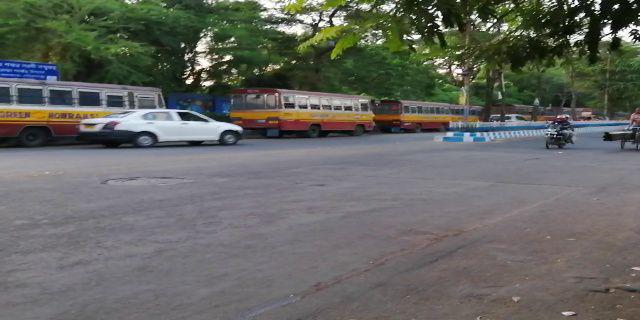Bus: (1, 79, 164, 145), (226, 86, 377, 144), (373, 94, 459, 135)
Car: (78, 104, 244, 152)
Motorbike: (543, 111, 575, 157)
